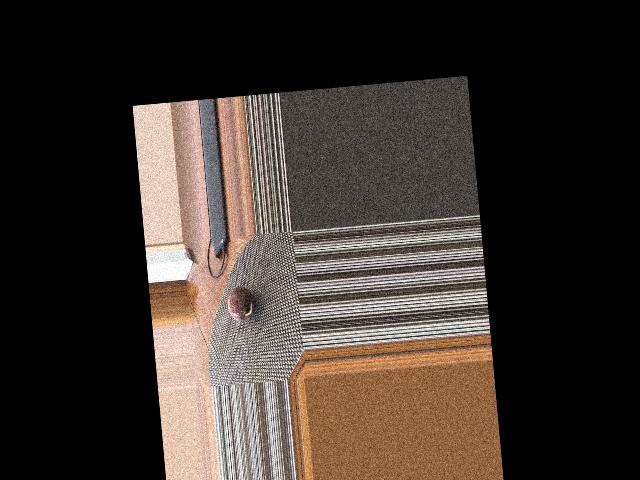beet: (226, 285, 255, 321)
